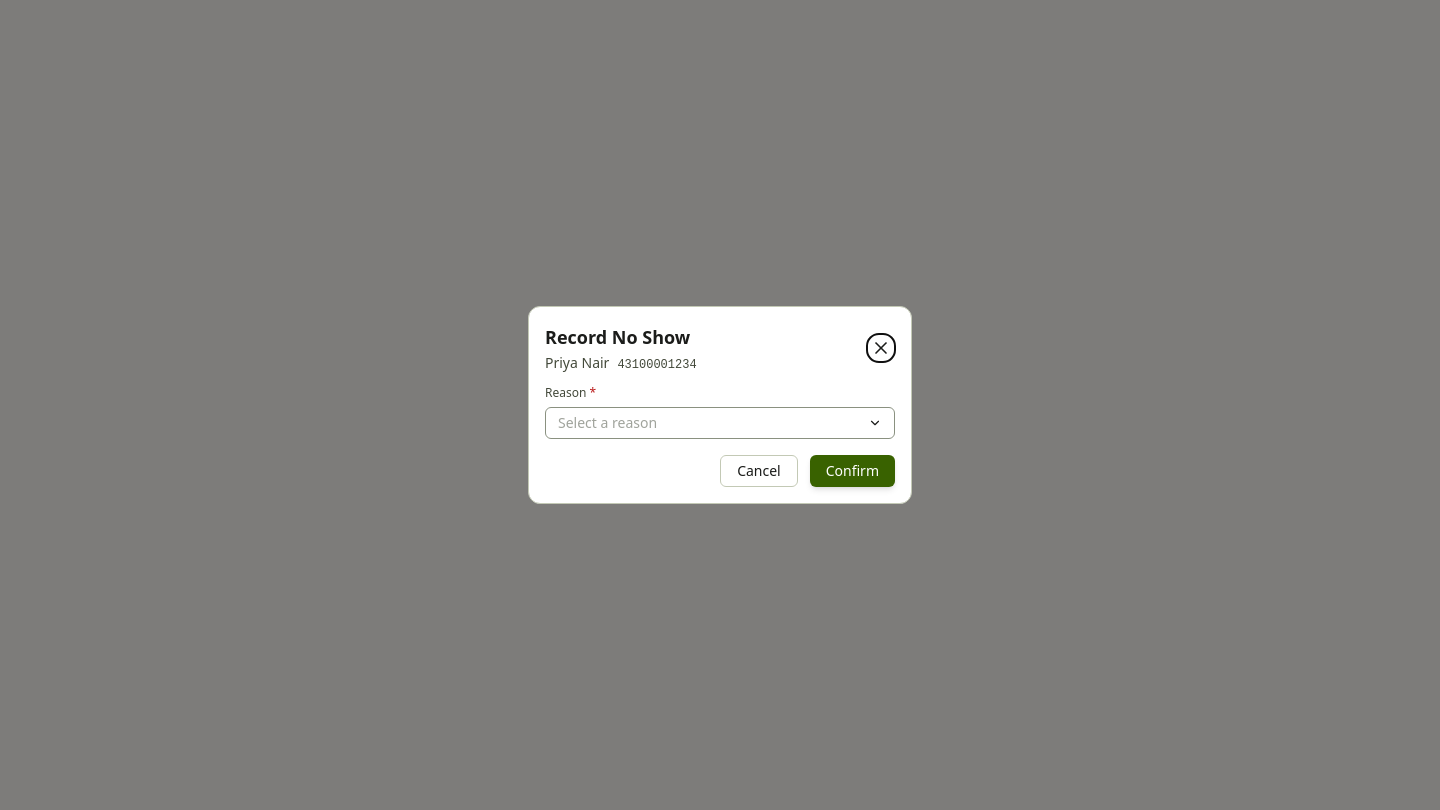
NoShowModal: a refused No Show › shows the server's reason in the modal and reloads the claim
The width and height of the screenshot is (1440, 810).
Click the button "Select a reason" at (608, 422), box [545,407,895,439]
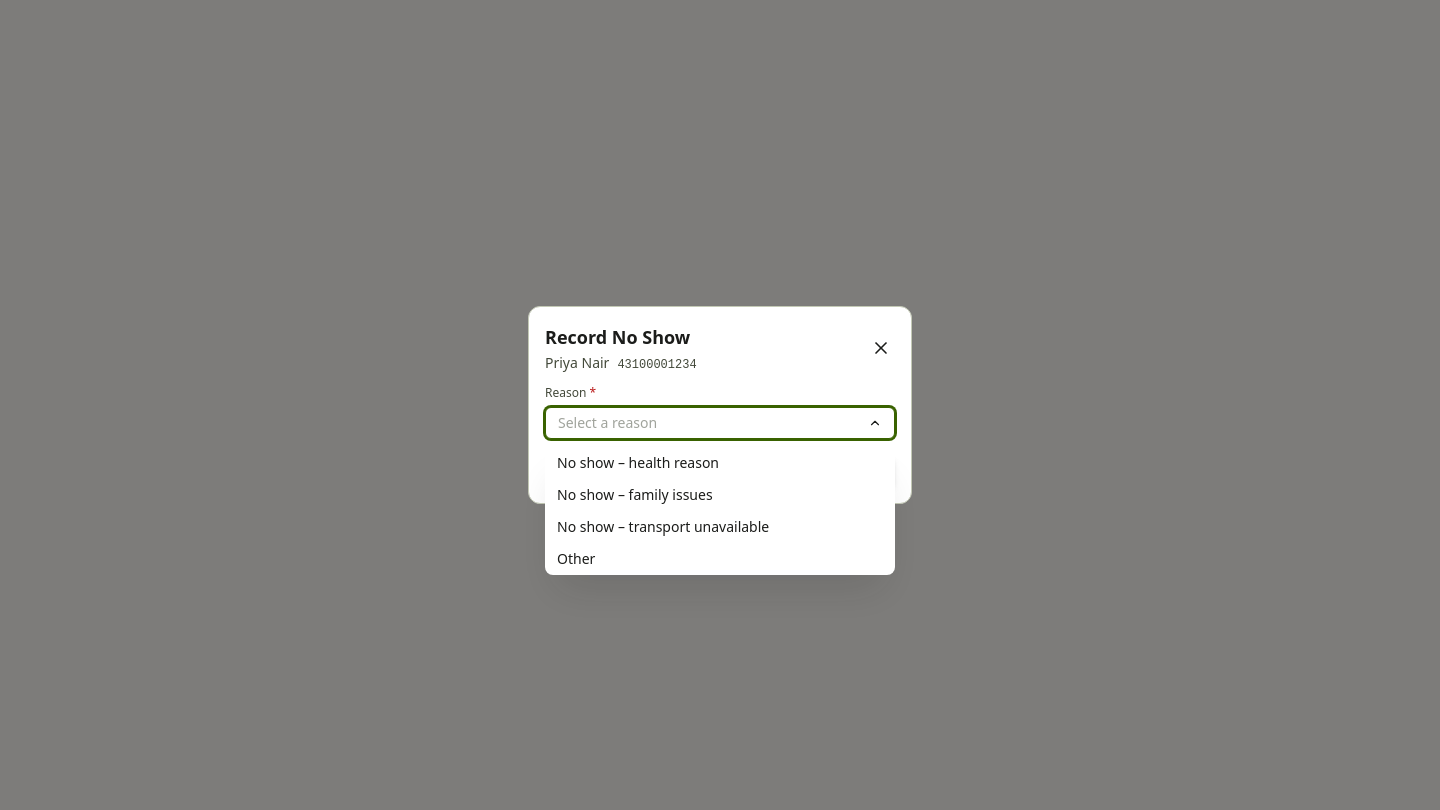
Click the option "Other" at (576, 558), box [557,549,595,568]
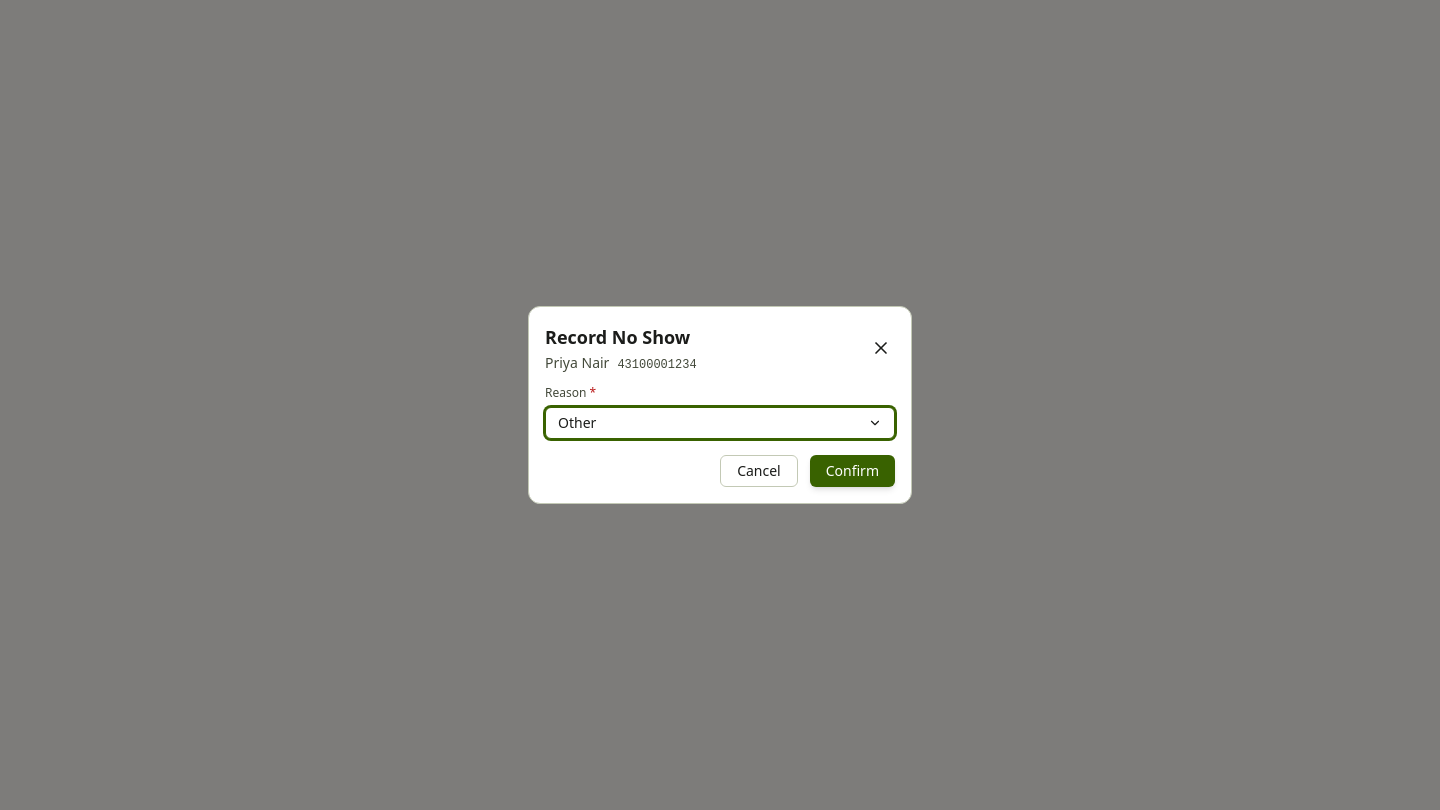
Click the button "Confirm" at (852, 471), box [810,455,895,487]
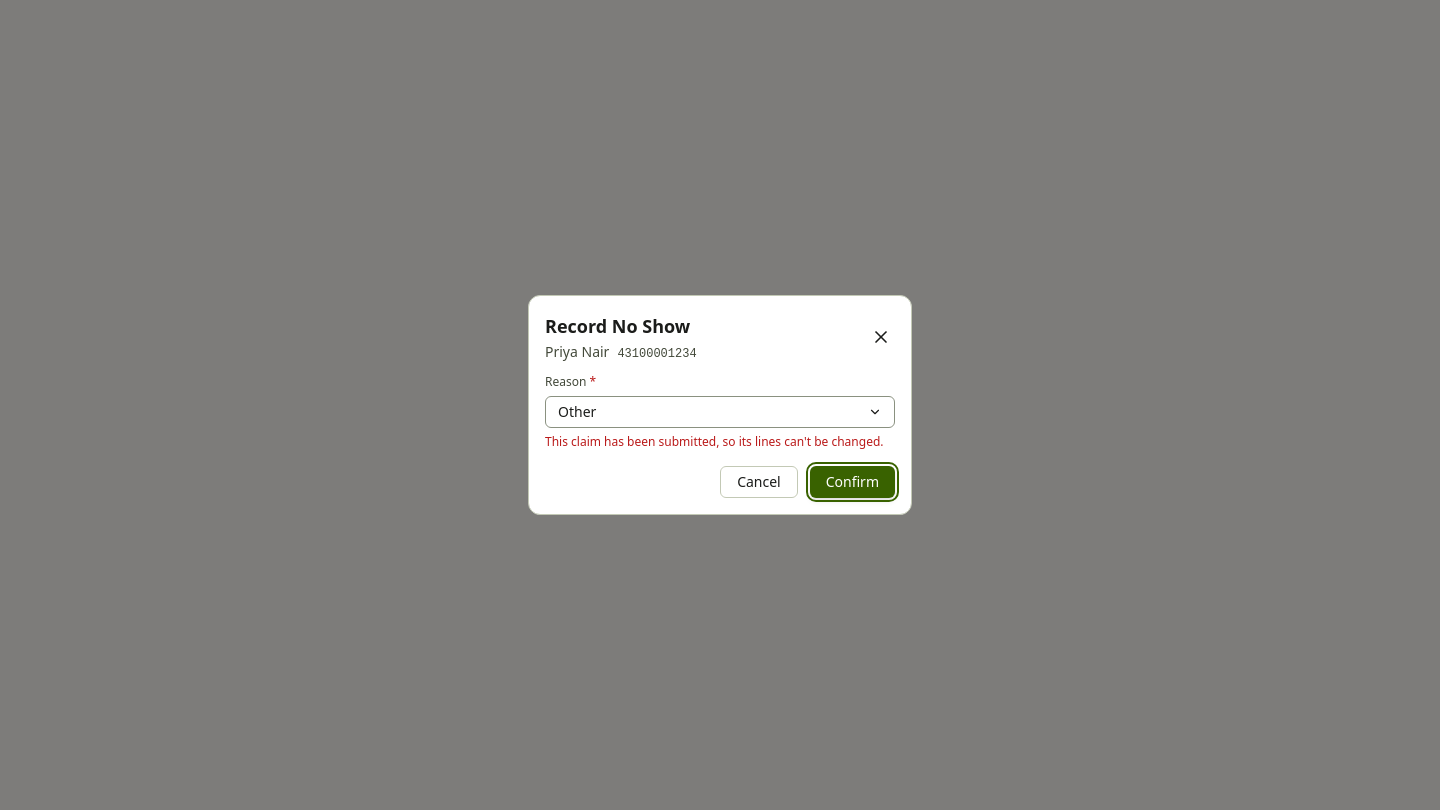
Expected: the text "This claim has been submitted, so its lines can't be changed." is shown, [545,434,895,450]
